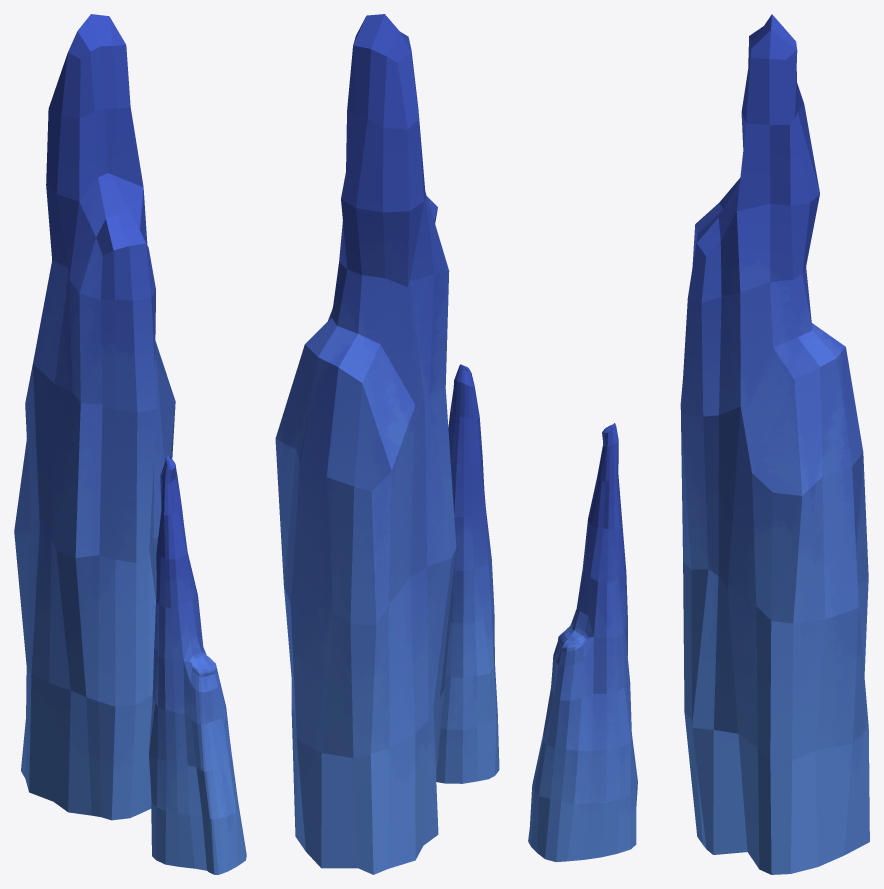
Rendered from mountain_1.fbx.
3 renders of one model, left to right at view 1: azimuth 30°, elevation 25°; view 2: azimuth 150°, elevation 25°; view 3: azimuth 270°, elevation 25°, orthographic. The views are drawn at different scales.
Parts seen in each view (by area): view 1: Cube.001, Cube; view 2: Cube.001, Cube; view 3: Cube.001, Cube.
Boxes of the visible parts, x1=… form: Cube.001: x1=14, y1=14, x2=175, y2=820; Cube: x1=149, y1=455, x2=246, y2=874; Cube.001: x1=275, y1=14, x2=456, y2=874; Cube: x1=436, y1=364, x2=499, y2=783; Cube.001: x1=680, y1=14, x2=869, y2=874; Cube: x1=528, y1=423, x2=637, y2=862.
Bounding box in the file's own units: 1306 × 7032 × 2653.
